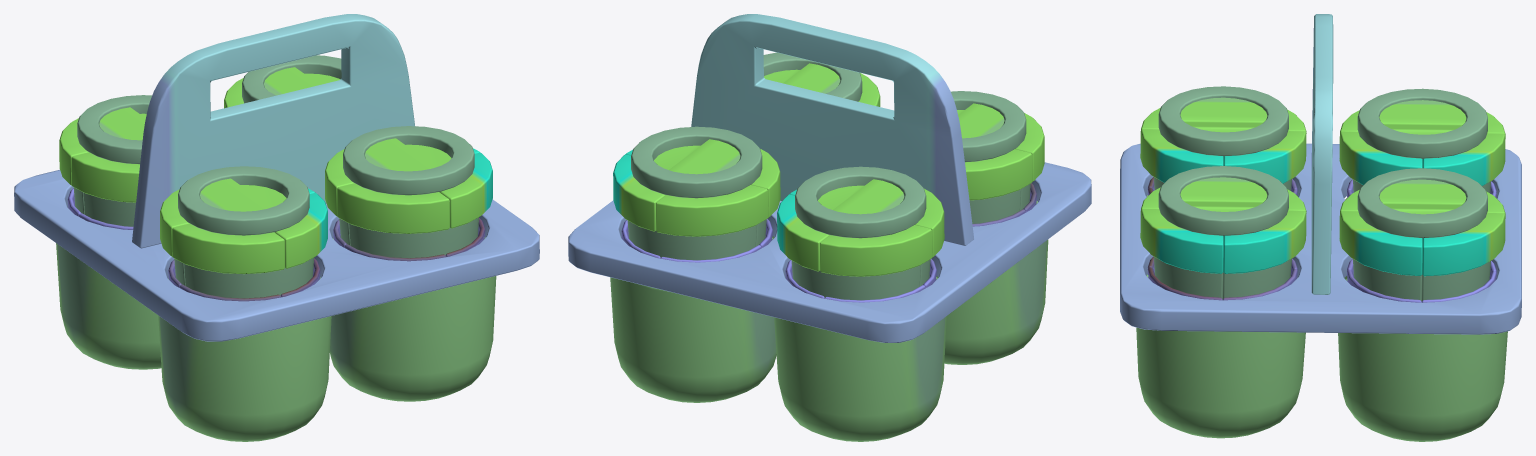
The model's file is level_170.fbx.
3 views of the same model, side by side, from view 1: azimuth 30°, elevation 25°; view 2: azimuth 150°, elevation 25°; view 3: azimuth 270°, elevation 25° (orthographic).
Parts seen in each view (by area): view 1: Cube_L1_2.004, Cube_L1_3.004, Cube_L1.004, Cube_L1_4.003, Cube_L1_1.004, Cube_L2_7.003, Cube_L2_10.003, Cube_L2_11.002, Cube_L2_5.003, Cube_L2_2.004, Cube_L3_11.002, Cube_L3_31 (+8 smaller); view 2: Cube_L1_2.004, Cube_L1_3.004, Cube_L1_1.004, Cube_L1_5.003, Cube_L2_16.001, Cube_L2_2.004, Cube_L1.004, Cube_L2_15.002, Cube_L2_1.004, Cube_L2_7.003, Cube_L3_6.002, Cube_L3_27 (+8 smaller); view 3: Cube_L1_3.004, Cube_L1_5.003, Cube_L1_4.003, Cube_L2_2.004, Cube_L2_10.003, Cube_L2_16.001, Cube_L2_7.003, Cube_L1_2.004, Cube_L2_13.002, Cube_L2_17.001, Cube_L2_19, Cube_L2_18 (+9 smaller).
Part boxes in pixels (x1,y1,x2,y2): Cube_L1_2.004: (132, 14, 414, 248); Cube_L1_3.004: (14, 169, 539, 341); Cube_L1.004: (158, 277, 331, 441); Cube_L1_4.003: (330, 237, 496, 401); Cube_L1_1.004: (56, 243, 161, 369); Cube_L2_7.003: (178, 166, 309, 235); Cube_L2_10.003: (343, 126, 474, 195); Cube_L2_11.002: (337, 183, 449, 233); Cube_L2_5.003: (172, 223, 285, 274); Cube_L2_2.004: (77, 95, 151, 164); Cube_L3_11.002: (184, 232, 314, 298); Cube_L3_31: (349, 217, 478, 258); Cube_L1_2.004: (691, 14, 973, 245); Cube_L1_3.004: (568, 162, 1091, 342); Cube_L1_1.004: (774, 276, 946, 441); Cube_L1_5.003: (610, 237, 776, 402); Cube_L2_16.001: (631, 126, 762, 198); Cube_L2_2.004: (795, 166, 926, 238); Cube_L1.004: (936, 201, 1048, 364); Cube_L2_15.002: (656, 185, 768, 236); Cube_L2_1.004: (820, 225, 932, 276); Cube_L2_7.003: (951, 91, 1026, 162); Cube_L3_6.002: (791, 235, 920, 300); Cube_L3_27: (627, 220, 756, 260); Cube_L1_3.004: (1120, 143, 1521, 334); Cube_L1_5.003: (1338, 278, 1507, 441); Cube_L1_4.003: (1136, 274, 1305, 438); Cube_L2_2.004: (1357, 88, 1487, 158); Cube_L2_10.003: (1158, 166, 1288, 235); Cube_L2_16.001: (1357, 168, 1487, 237); Cube_L2_7.003: (1158, 86, 1288, 156); Cube_L1_2.004: (1311, 14, 1333, 294); Cube_L2_13.002: (1140, 209, 1223, 273); Cube_L2_17.001: (1339, 211, 1422, 275); Cube_L2_19: (1223, 210, 1306, 273); Cube_L2_18: (1422, 213, 1505, 276).
Size of the model in its own units: 15.74 by 14.3 by 15.75.
